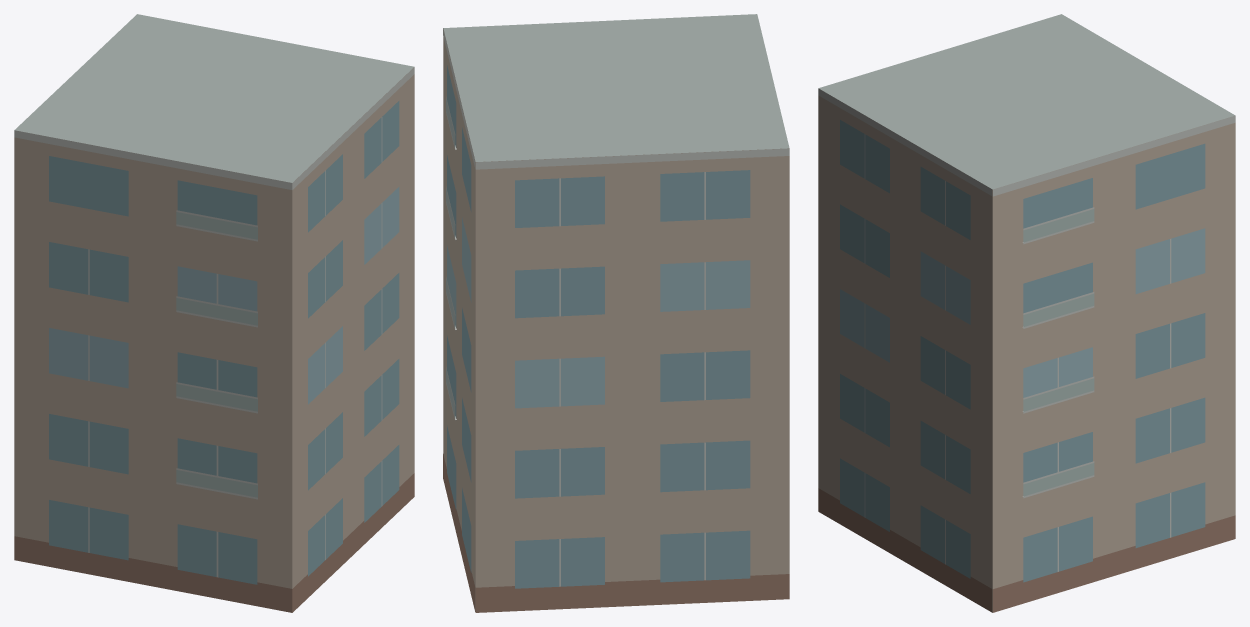
File: survey-upis-33006022.glb
The picture shows the model from 3 angles, left to right: view 1: azimuth 30°, elevation 25°; view 2: azimuth 150°, elevation 25°; view 3: azimuth 270°, elevation 25°; orthographic projection. The views are drawn at different scales.
Parts seen in each view (by area): view 1: survey-upis-33006022.tmp; view 2: survey-upis-33006022.tmp; view 3: survey-upis-33006022.tmp.
Boxes of the visible parts, x1,y1,x2,y2 form: survey-upis-33006022.tmp: [14, 14, 414, 612]; survey-upis-33006022.tmp: [443, 14, 789, 612]; survey-upis-33006022.tmp: [818, 14, 1235, 612].
Bounding box in the file's own units: 12.95 × 14.55 × 13.01.
